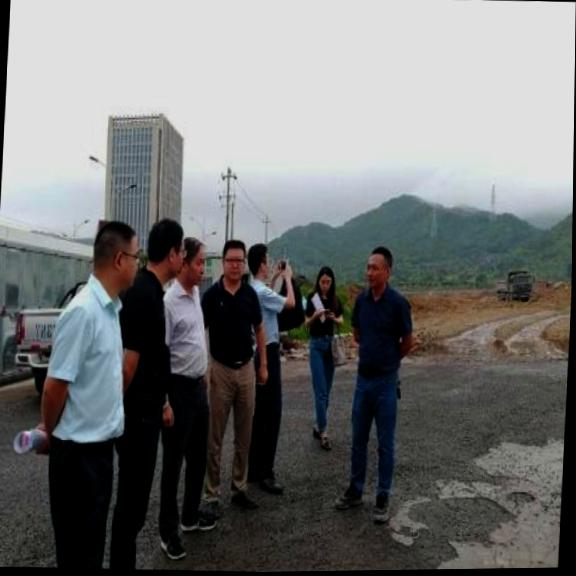no_safety_vest: (37, 275, 135, 441), (117, 264, 177, 388), (347, 282, 419, 376), (201, 278, 266, 370), (160, 279, 211, 386), (247, 279, 296, 350), (300, 288, 347, 339)
